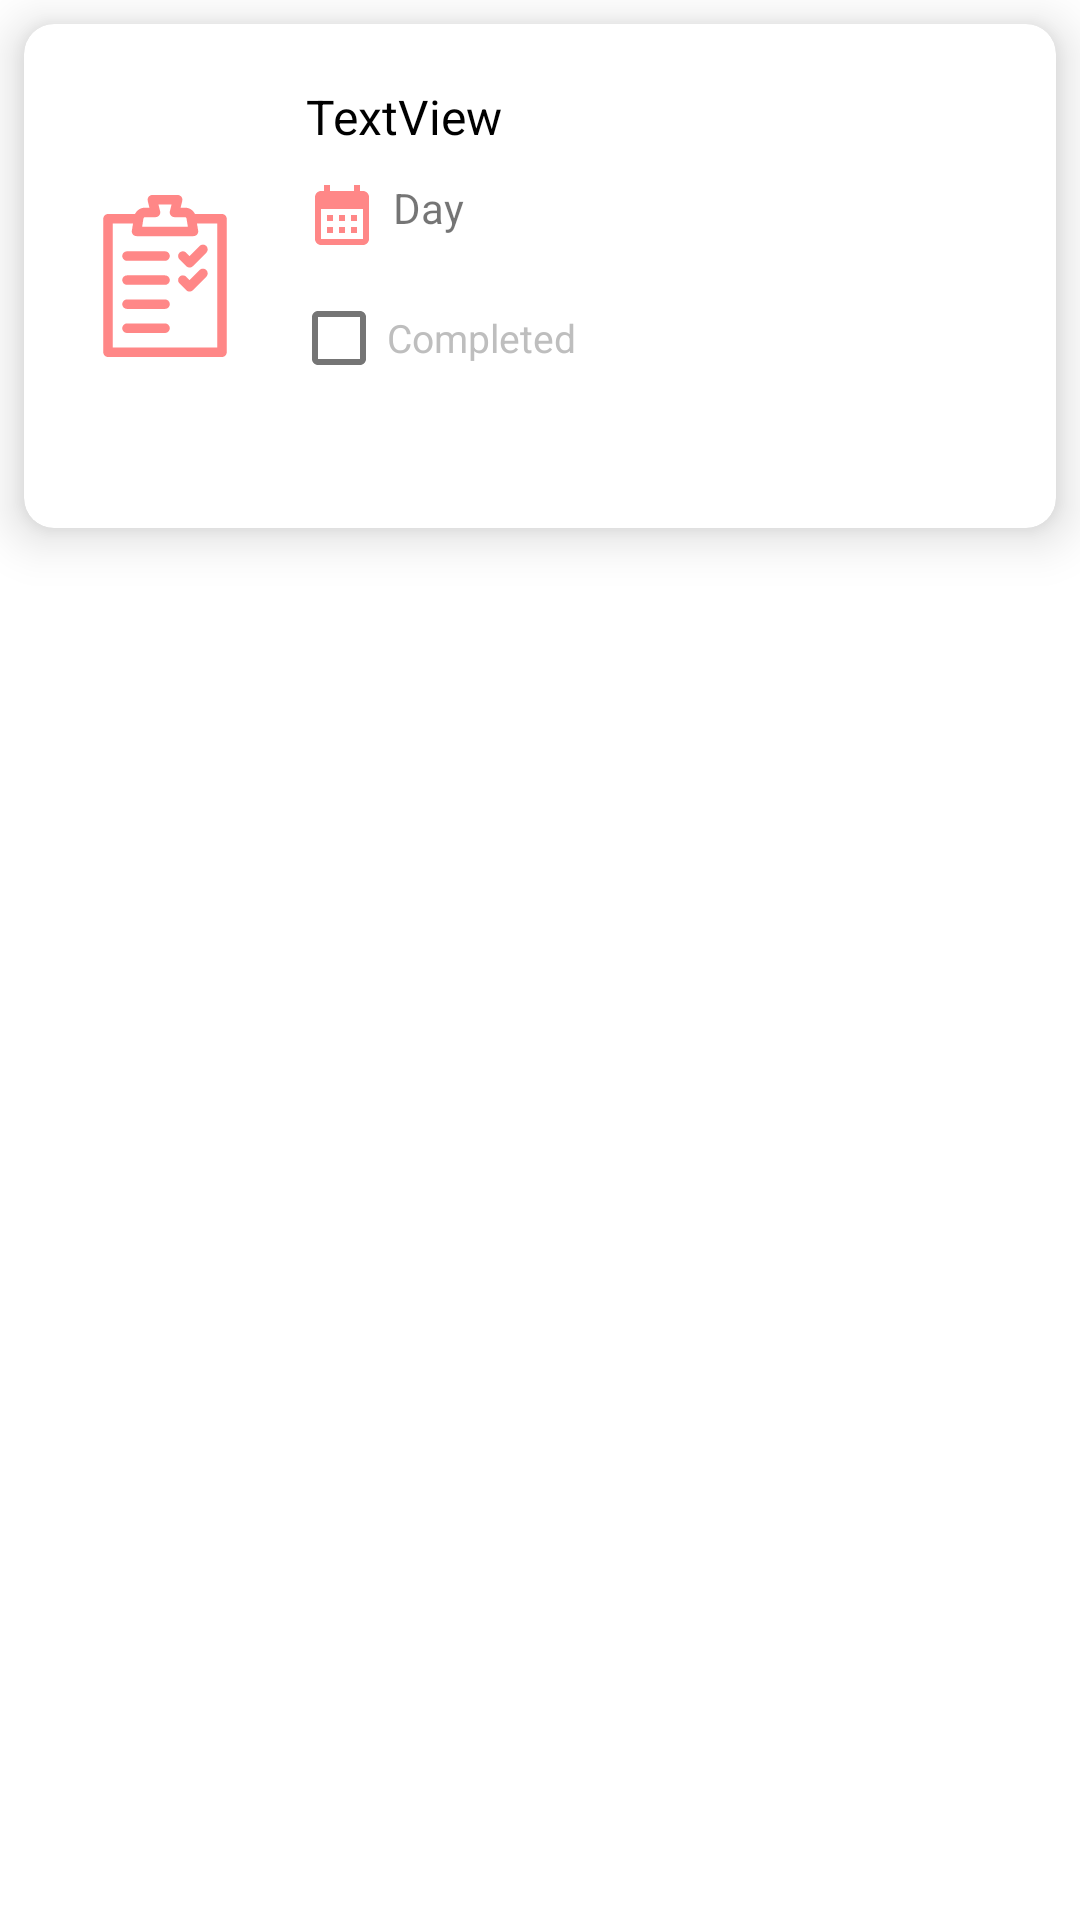

Named icons in this screenshot (1080*1920) and their centers, (x=x, y=y):
icon task: (x=165, y=276)
